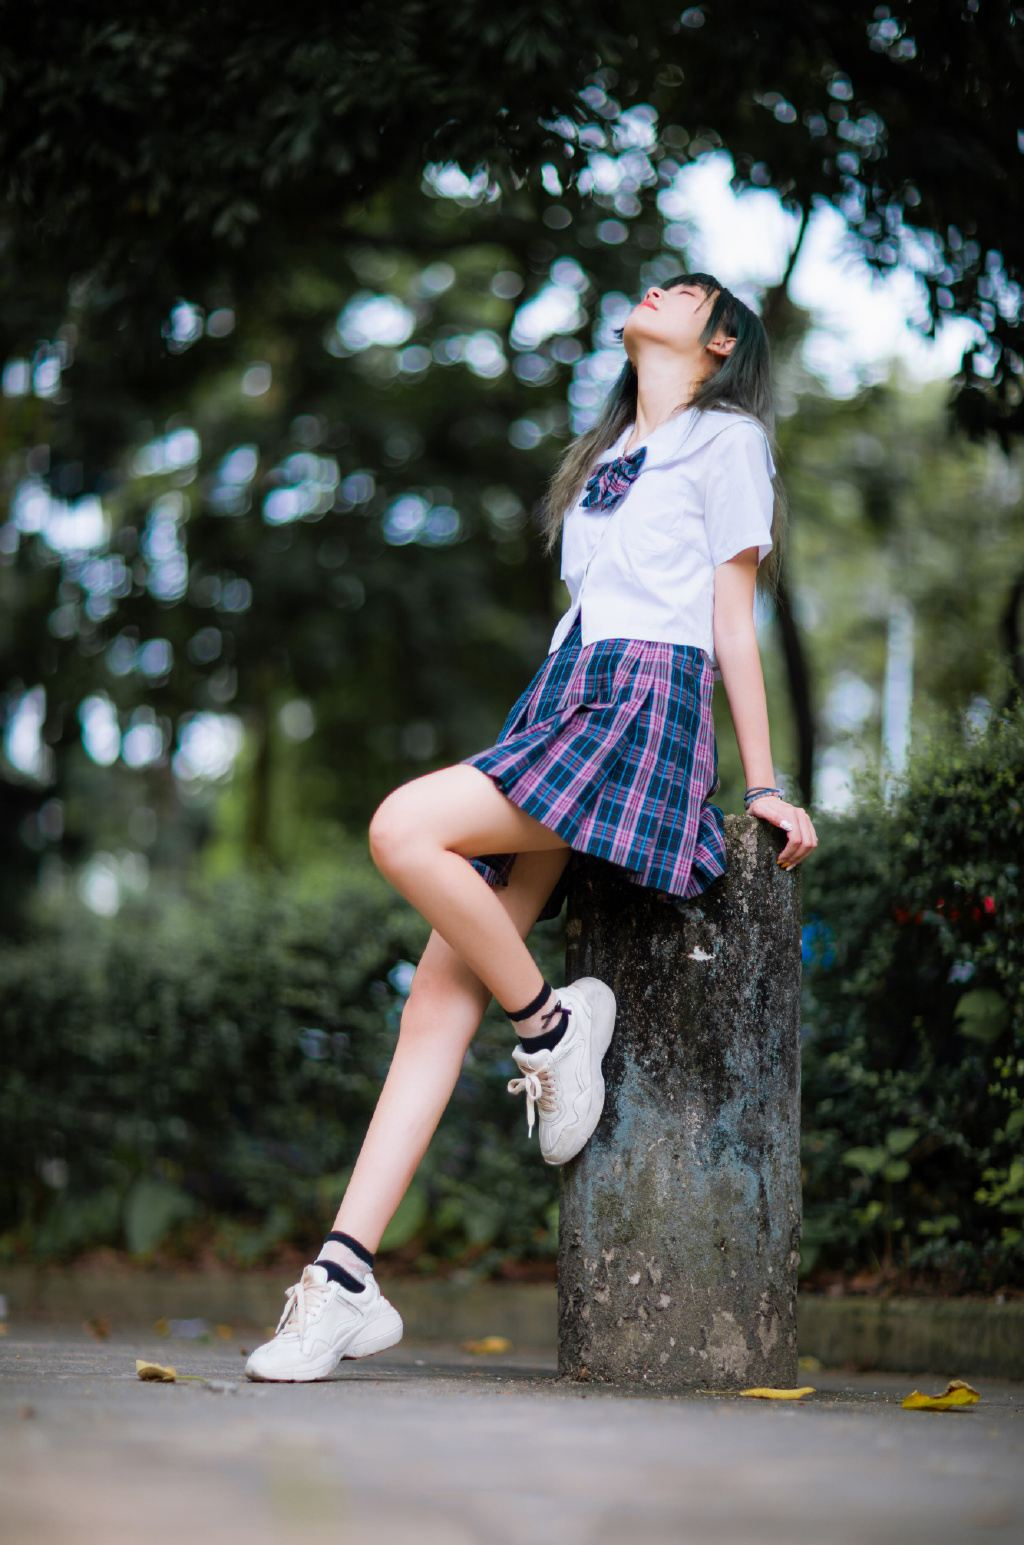person: (348, 193, 819, 1197)
